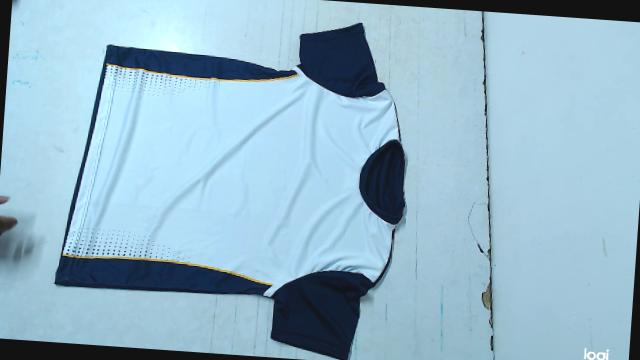new-garment: (54, 23, 405, 360)
